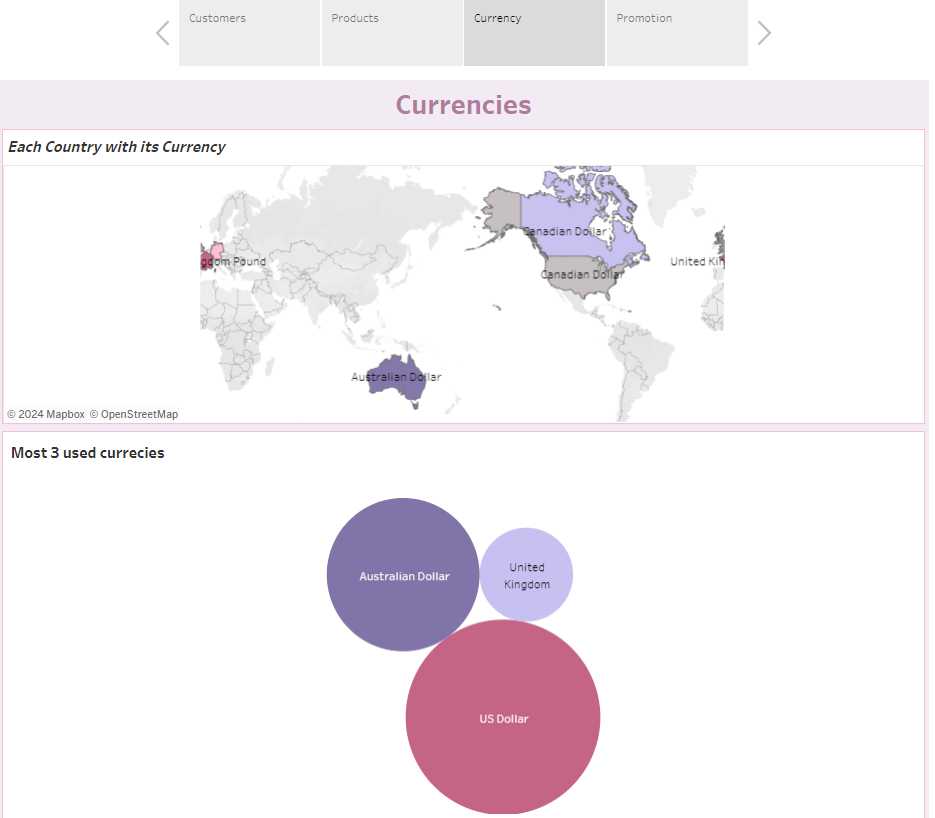

This screenshot's page, from the dashboard's own definition file:
{"tool":"tableau","page":{"name":"Dashboard 2","canvas":[1000,800],"ordinal":2},"visuals":[{"type":"text","box":[4,4,992,58]},{"type":"worksheet","title":"Sheet 5","mark":"Multipolygon","box":[4,62,992,313]},{"type":"worksheet","title":"Sheet 6","mark":"Circle","box":[9,380,982,411]}]}

Visuals, with their boxes on the page's 1000x800 design canvas (x1, y1, x2, y2). These are canvas units, not pixel positions in the 935x818 screenshot, which may show the page scaled, cropped or inside an application window:
text: bbox=(4, 4, 996, 62)
"Sheet 5" worksheet (Multipolygon marks): bbox=(4, 62, 996, 375)
"Sheet 6" worksheet (Circle marks): bbox=(9, 380, 991, 791)
